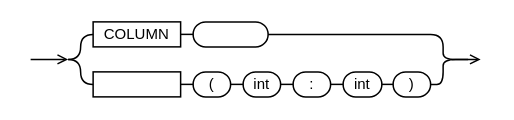
Some shapes in this 514 by 120 pixel diagram are drawn without their labels. The centre of each missing label's shape, as x and y in pixels:
POSITION: [136,83]
string: [230,33]
